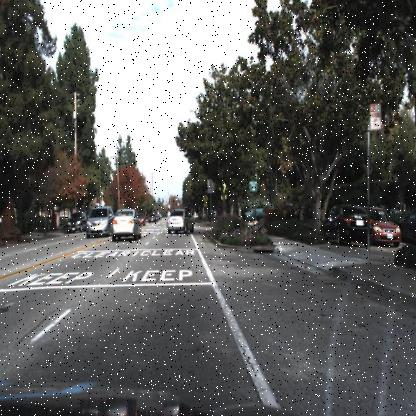car: (320, 202, 374, 245), (360, 205, 401, 248), (110, 208, 144, 242), (84, 205, 116, 237), (165, 206, 195, 234), (146, 209, 161, 228)
